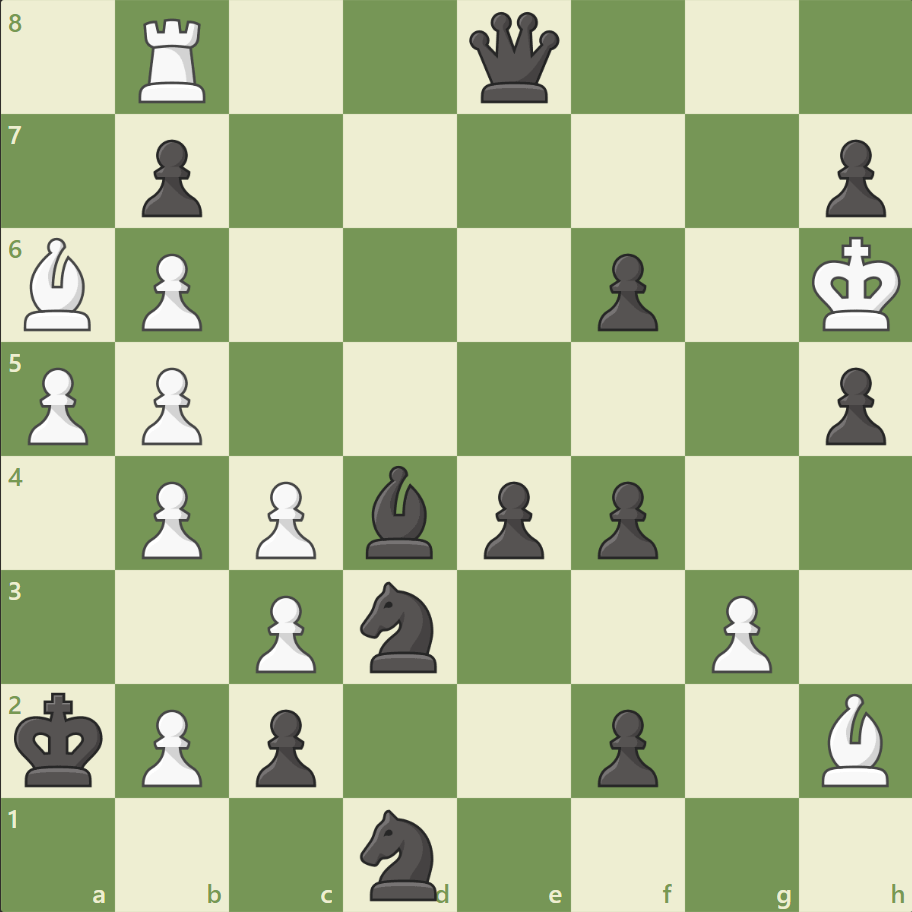B: (17, 233, 101, 336), (812, 687, 896, 790)
K: (806, 231, 906, 339)
P: (133, 246, 208, 337), (20, 359, 95, 450), (133, 359, 208, 450), (133, 473, 208, 564), (247, 473, 322, 564), (247, 586, 322, 677), (701, 586, 776, 677), (133, 700, 208, 791)
R: (133, 12, 215, 109)
b: (358, 460, 442, 563)
k: (11, 685, 111, 793)
n: (351, 575, 449, 677), (351, 802, 449, 904)
p: (133, 132, 208, 223), (474, 473, 549, 564), (247, 700, 322, 791), (815, 132, 889, 223), (588, 246, 662, 337), (815, 359, 889, 450), (588, 473, 662, 564), (588, 700, 662, 791)
q: (464, 9, 563, 108)
